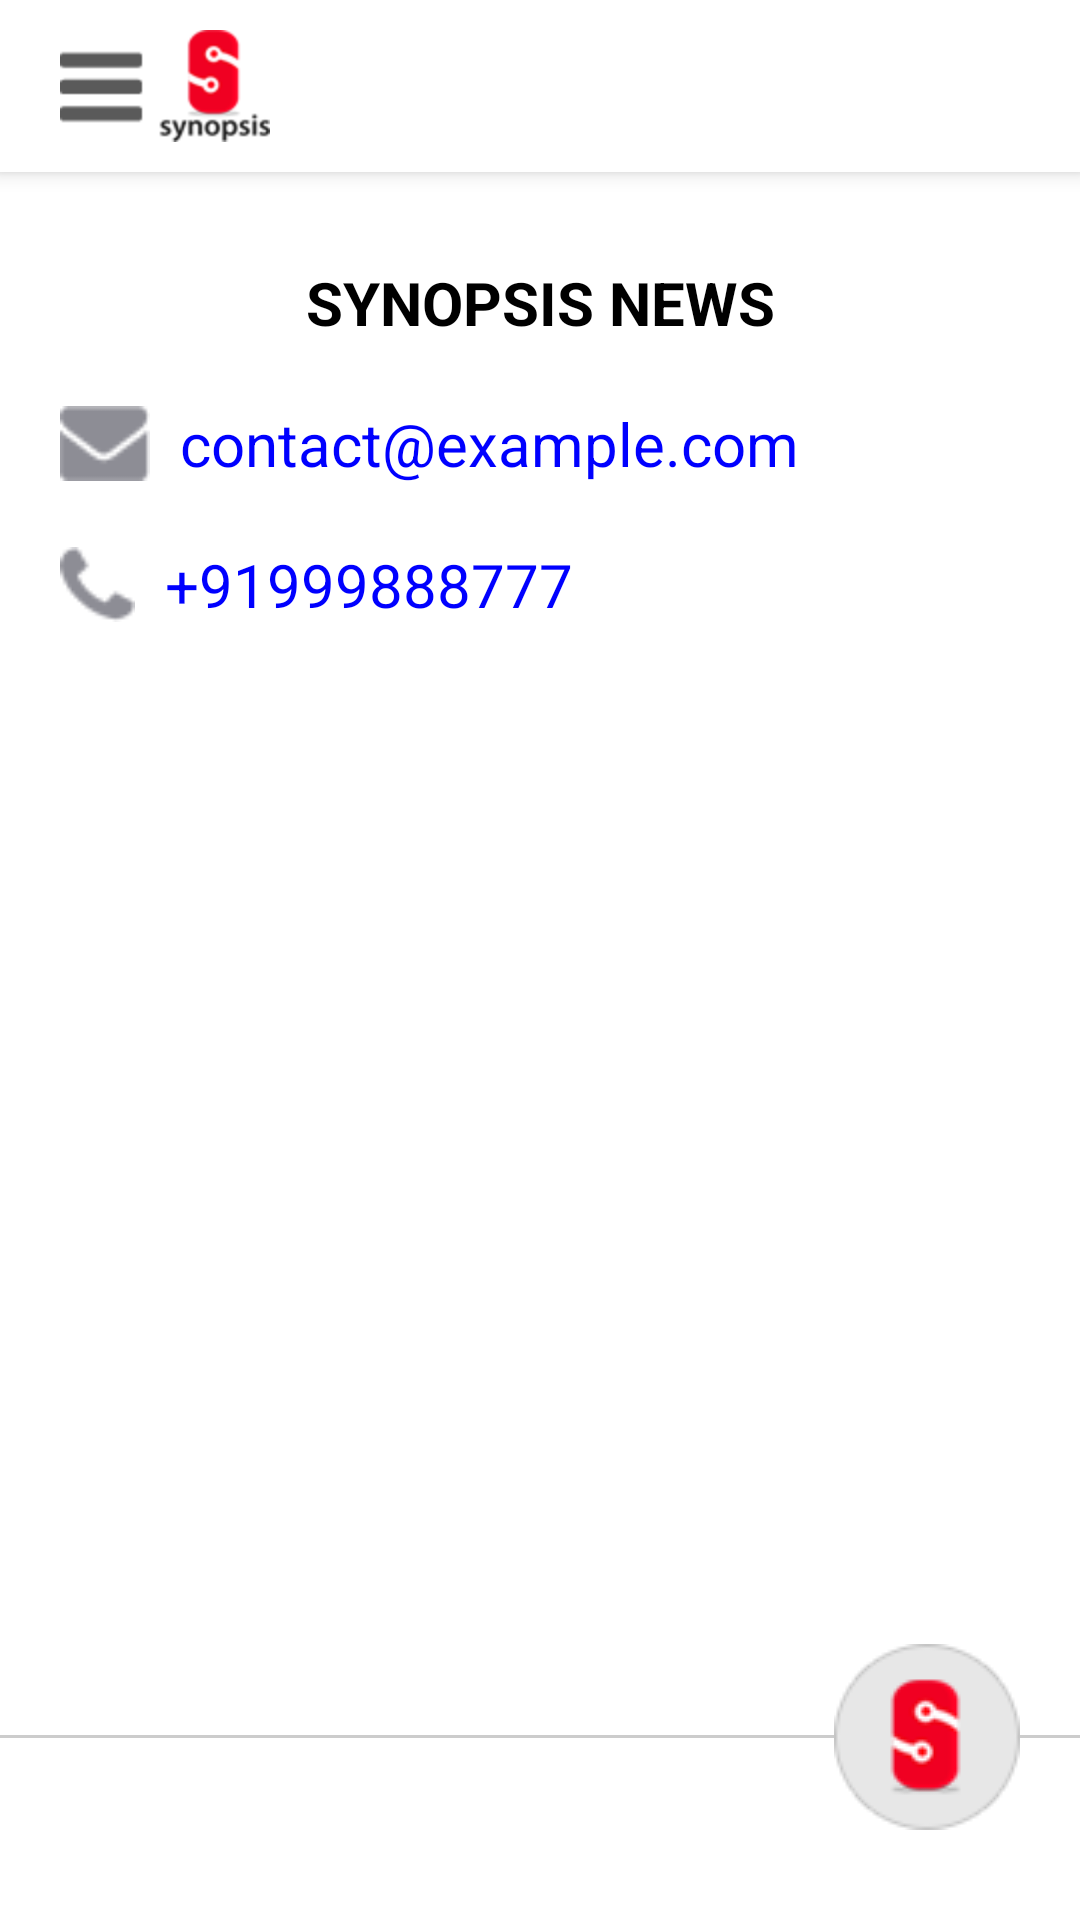

Where to tap for icons on this 1080px×1920px app screen, as [x,y]:
contactemail: [104,443]
contactnumber: [97,583]
